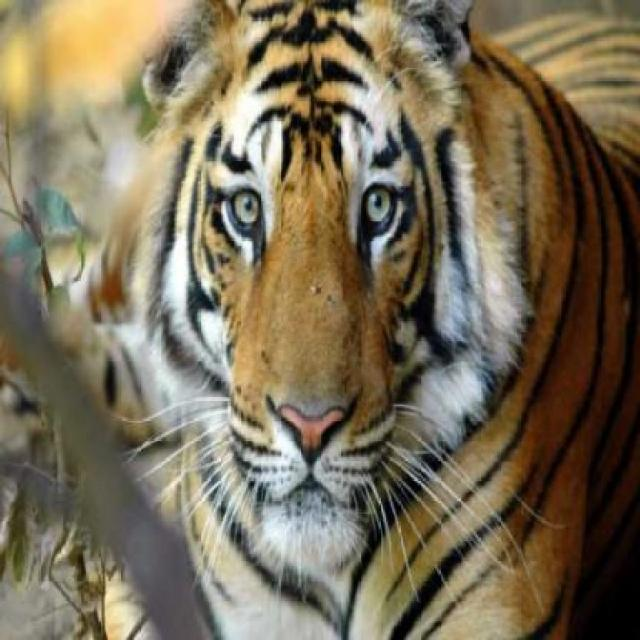Tiger: (50, 0, 638, 638)
